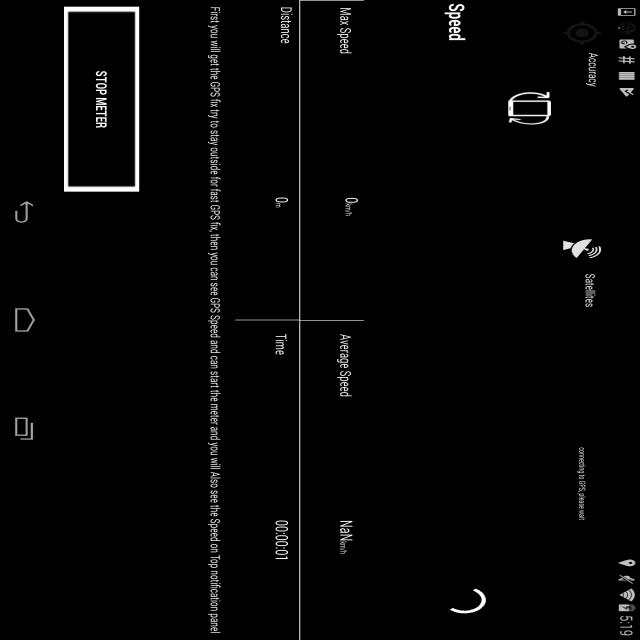ImageView: (56, 2, 154, 199), (496, 80, 566, 139), (551, 229, 604, 259), (560, 18, 606, 49)
Spinner: (428, 576, 504, 622)
TextView: (208, 18, 232, 617), (258, 514, 296, 581), (255, 324, 295, 372), (329, 9, 366, 56), (436, 8, 468, 43), (277, 10, 295, 48)
